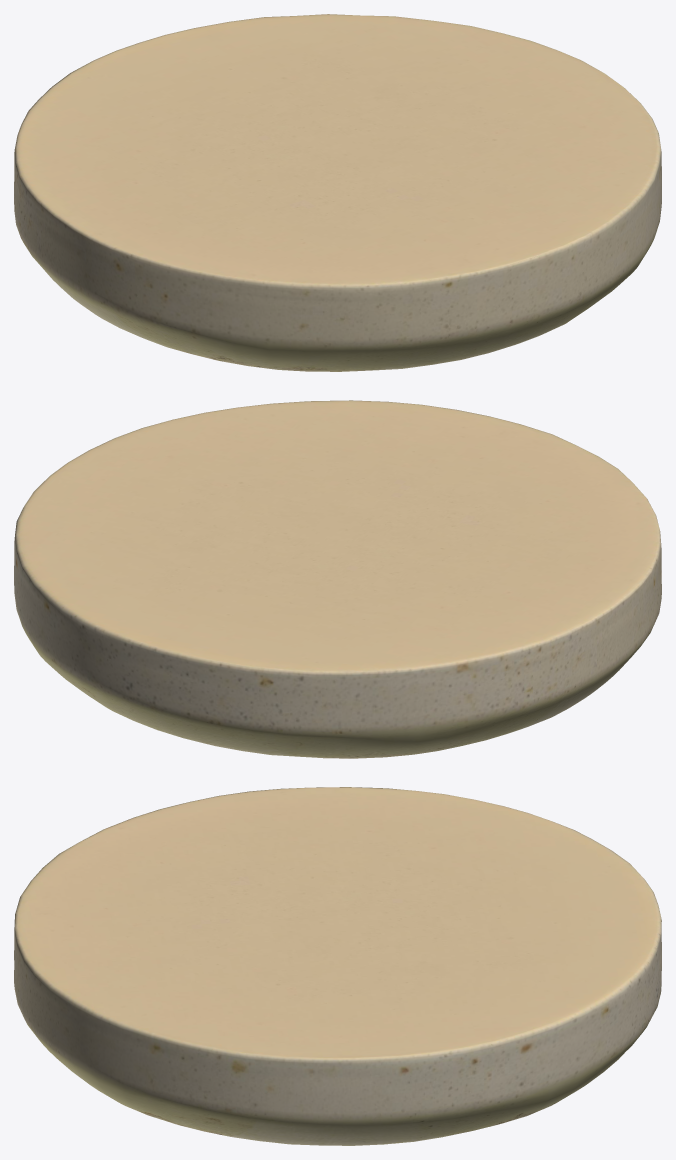
The picture shows the model from 3 angles, top to bottom: view 1: azimuth 30°, elevation 25°; view 2: azimuth 150°, elevation 25°; view 3: azimuth 270°, elevation 25°; orthographic projection.
Parts seen in each view (by area): view 1: Mesh0; view 2: Mesh0; view 3: Mesh0.
Part boxes in pixels (x1,y1,x2,y2): Mesh0: [14, 14, 661, 371]; Mesh0: [14, 400, 661, 758]; Mesh0: [14, 787, 661, 1145].
Bounding box in the file's own units: 1.91 × 0.3643 × 1.91.
Materials: 1 (1 with a texture image).
